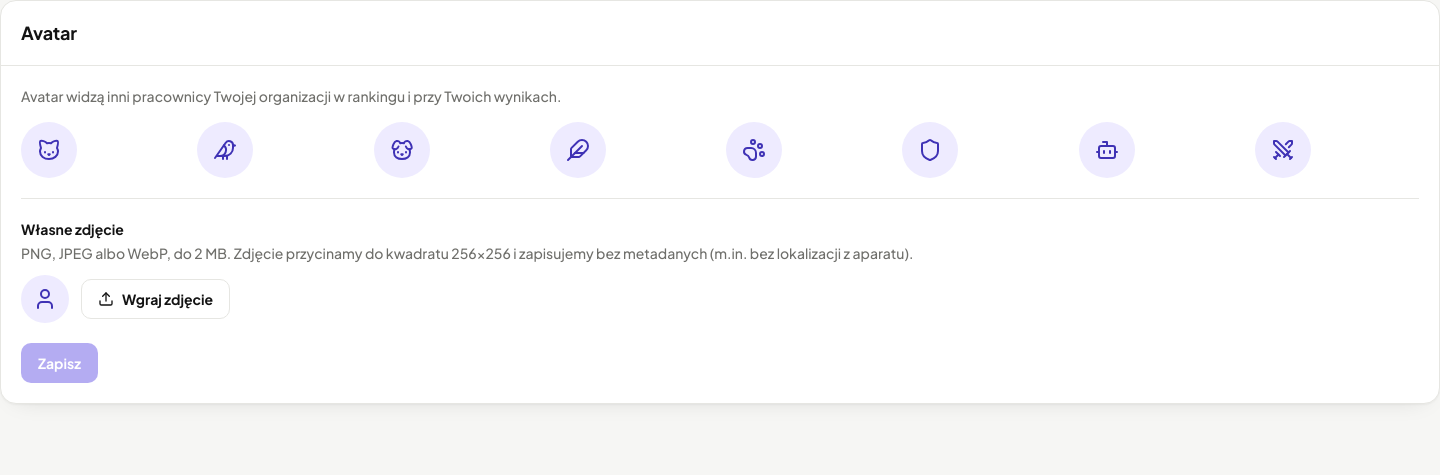
Test case: AvatarSettings (ustawienia konta) › awaria sieci kończy się komunikatem, a nie wywróceniem ekranu
The image size is (1440, 475).
Step 1. Click the button named "bear" → (754, 150), box [726,122,782,178]
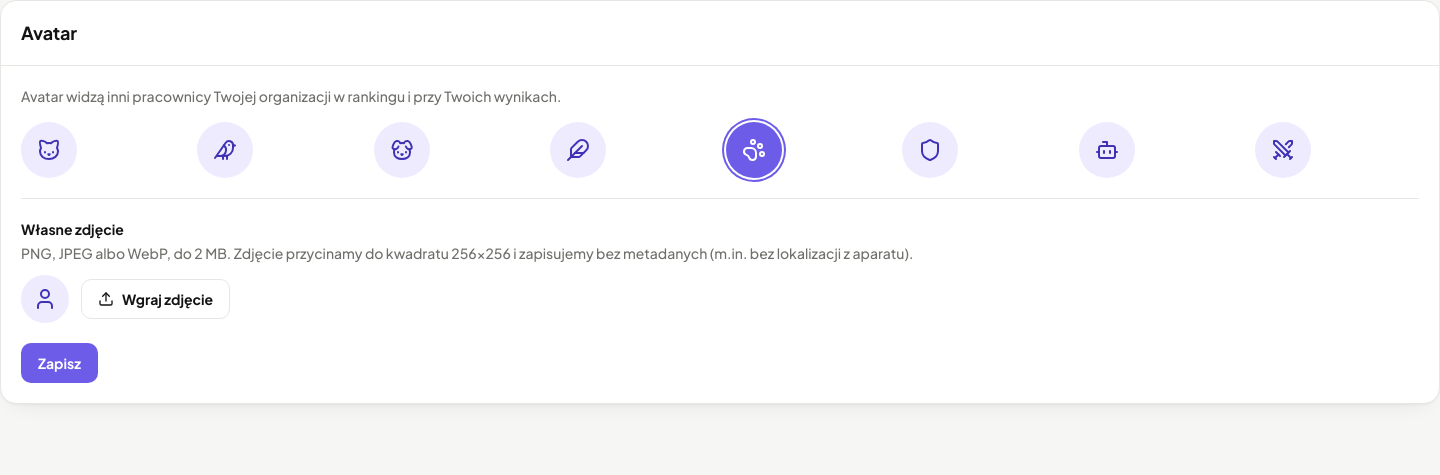
Step 2. Click the button "Zapisz" → (60, 363), box [21,343,98,383]
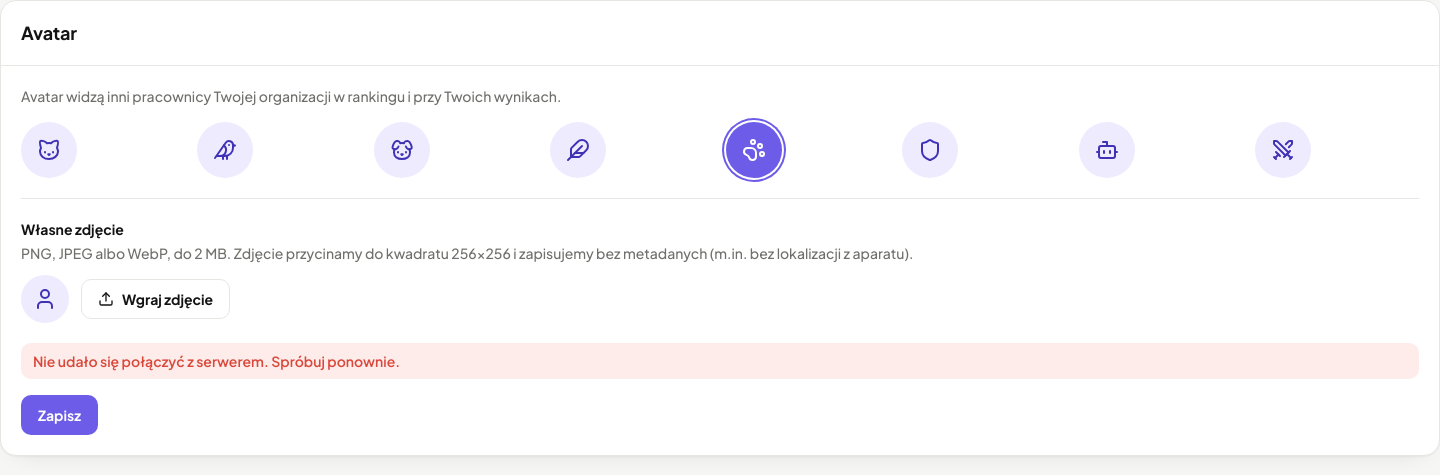
Now the message reads "Nie udało się połączyć z serwerem. Spróbuj ponownie.", box [33,352,400,370]
